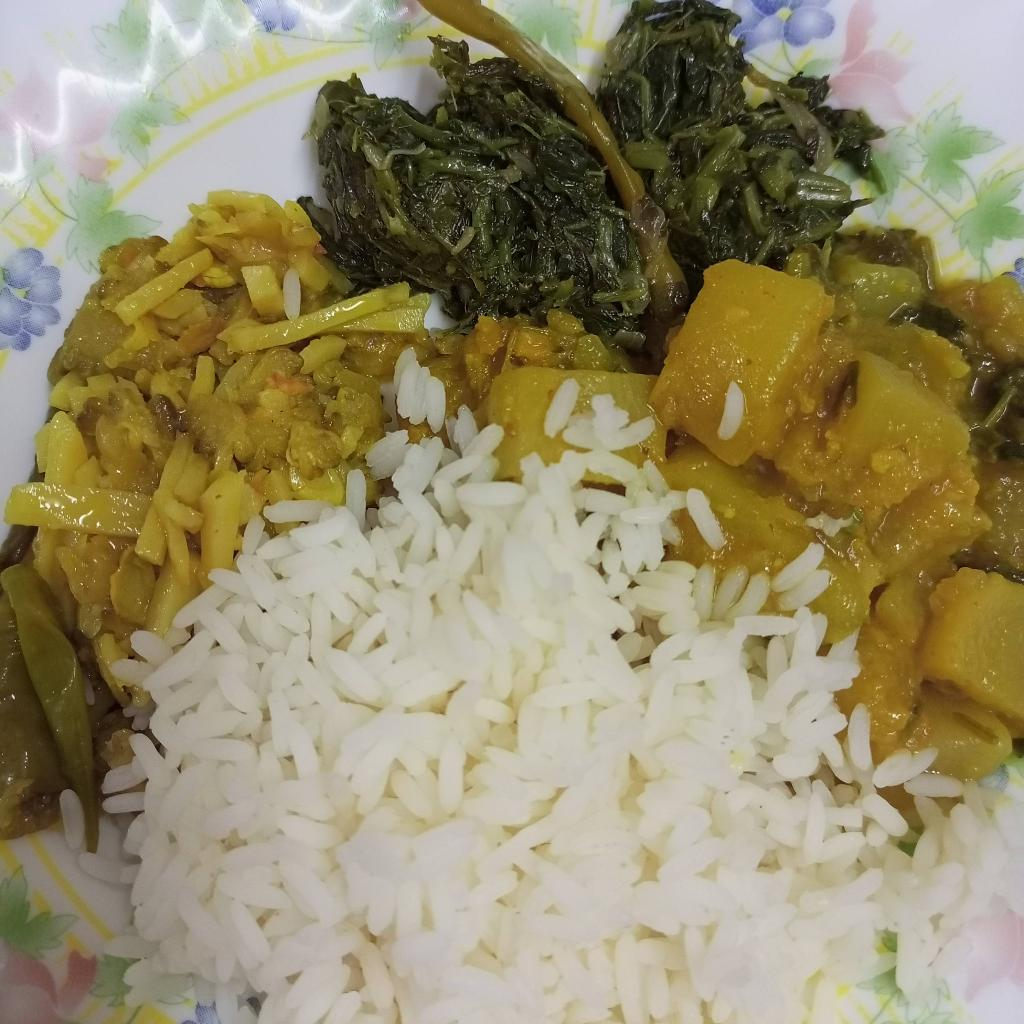lau: (652, 222, 1024, 769)
rice: (108, 353, 1022, 1024)
shak: (303, 0, 883, 349)
vaji: (5, 194, 436, 714)
